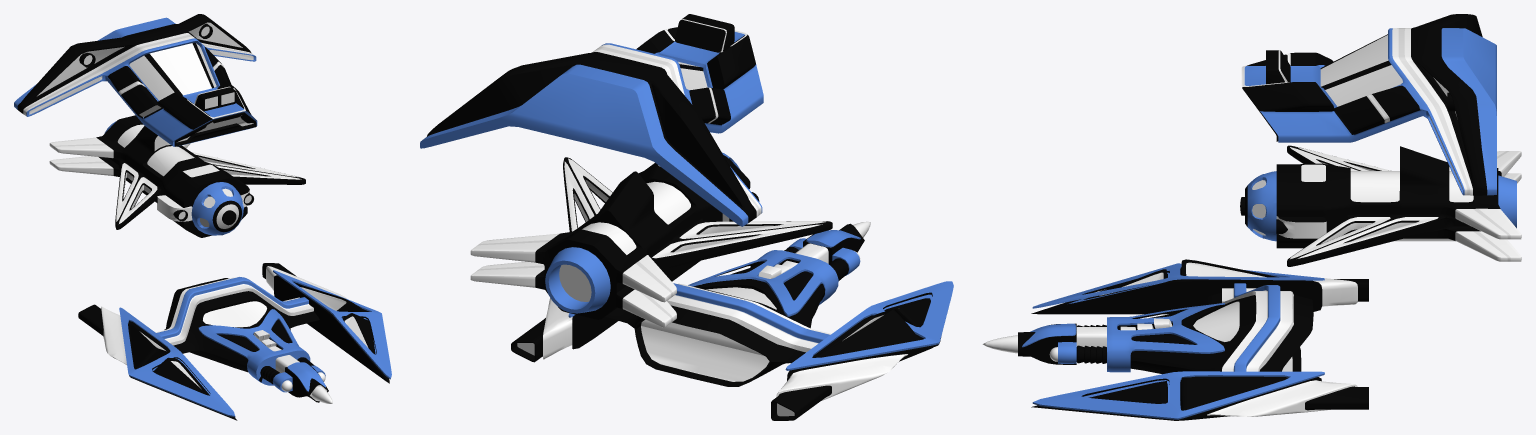
Rendered from Replacement Ships.fbx.
3 renders of one model, left to right at view 1: azimuth 30°, elevation 25°; view 2: azimuth 150°, elevation 25°; view 3: azimuth 270°, elevation 25°, orthographic. The views are drawn at different scales.
Parts seen in each view (by area): view 1: Plane.001, Plane, Sphere.002; view 2: Plane.001, Plane, Sphere.002; view 3: Plane.001, Plane, Sphere.002.
Boxes of the visible parts, <box> form: Plane.001: <box>78,263,391,420</box>; Plane: <box>14,14,257,146</box>; Sphere.002: <box>49,115,305,237</box>; Plane.001: <box>511,221,953,420</box>; Plane: <box>420,14,763,226</box>; Sphere.002: <box>470,152,832,327</box>; Plane.001: <box>982,259,1368,420</box>; Plane: <box>1241,14,1496,195</box>; Sphere.002: <box>1240,145,1521,266</box>.
Bounding box in the file's own units: 991 × 975 × 1458.
